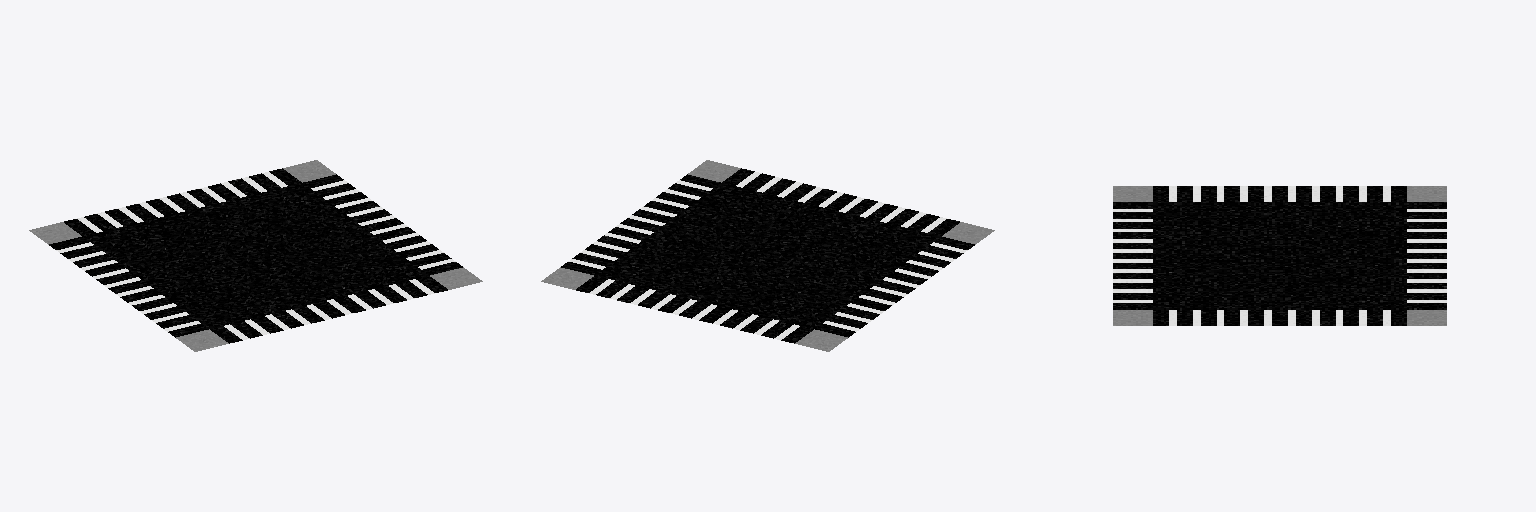
The picture shows the model from 3 angles: view 1: azimuth 30°, elevation 25°; view 2: azimuth 150°, elevation 25°; view 3: azimuth 270°, elevation 25°; orthographic projection.
Visible parts, largest first — view 1: Plane.010_Plane.021; view 2: Plane.010_Plane.021; view 3: Plane.010_Plane.021.
Boxes of the visible parts, x1,y1,x2,y2 form: Plane.010_Plane.021: [29, 160, 482, 351]; Plane.010_Plane.021: [541, 160, 994, 351]; Plane.010_Plane.021: [1113, 186, 1446, 325].
Bounding box in the file's own units: 10 × 0 × 10.
Materials: 1 (1 with a texture image).